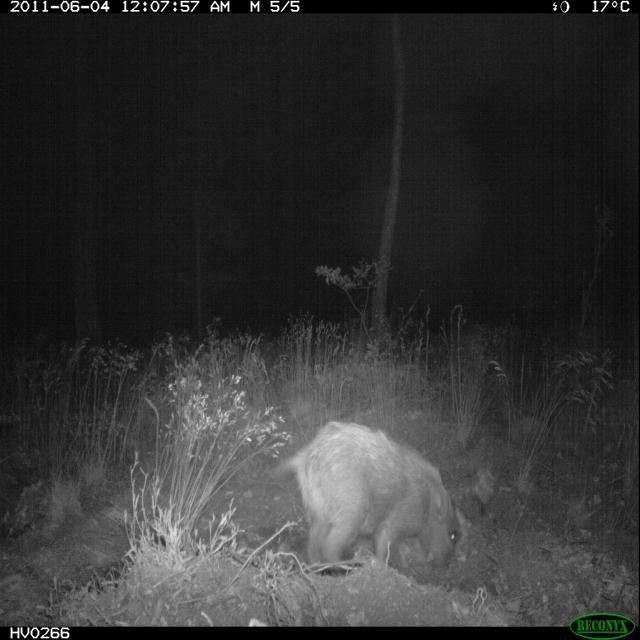boar: (219, 405, 493, 594)
